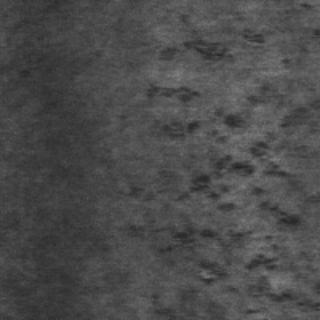rolled pit: (148, 68, 316, 318), (142, 22, 282, 142)
